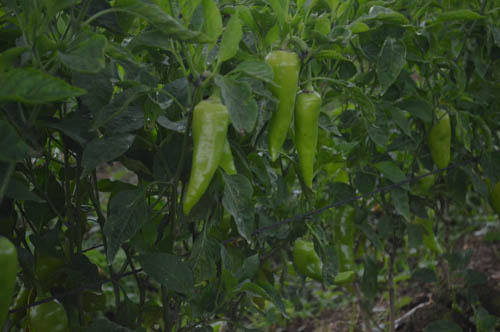ChiliPepper: (186, 103, 225, 219), (269, 52, 295, 161), (327, 208, 353, 286), (297, 95, 319, 184), (20, 298, 68, 332), (427, 109, 453, 165), (290, 234, 322, 279)
